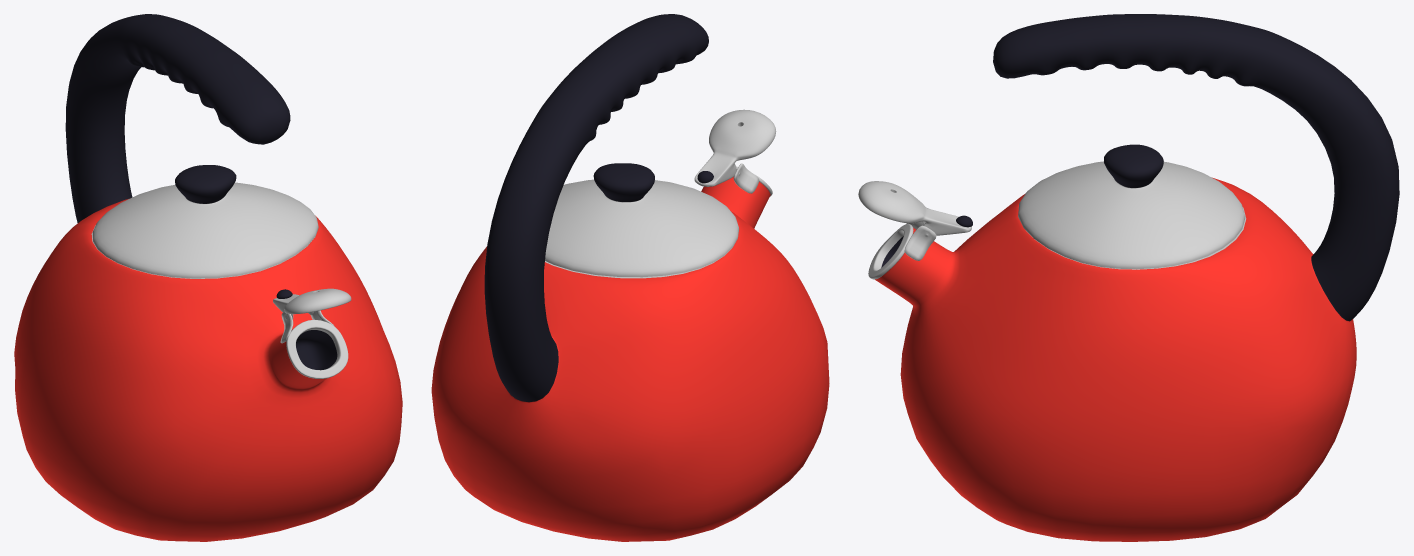
Rendered from KettleSimple FBX.fbx.
3 views of the same model, side by side, from view 1: azimuth 30°, elevation 25°; view 2: azimuth 150°, elevation 25°; view 3: azimuth 270°, elevation 25° (orthographic). The views are drawn at different scales.
Parts seen in each view (by area): view 1: Cube.001; view 2: Cube.001; view 3: Cube.001.
Boxes of the visible parts, <box> form: Cube.001: <box>14,14,402,541</box>; Cube.001: <box>431,14,829,541</box>; Cube.001: <box>858,14,1399,541</box>.
Size of the model in its own units: 2.54 by 3.43 by 3.53.
